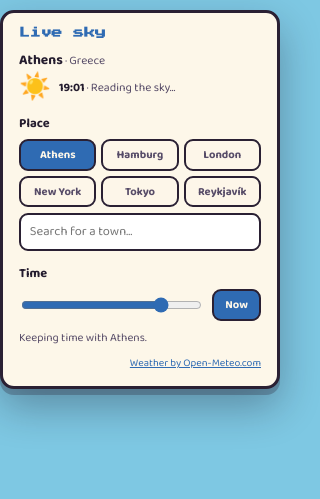
Scenario: moving the sky › finds anywhere else by name
This screenshot has width=320, height=499.
Type "Thessa" into the search field at x=140, y=232, box [19,213,261,251]
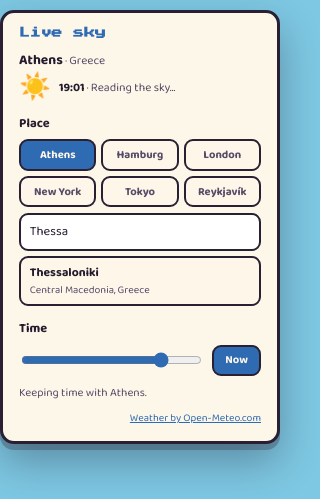
Click the button "Thessaloniki Central Macedonia, Greece" at x=140, y=281, box [19,256,261,306]
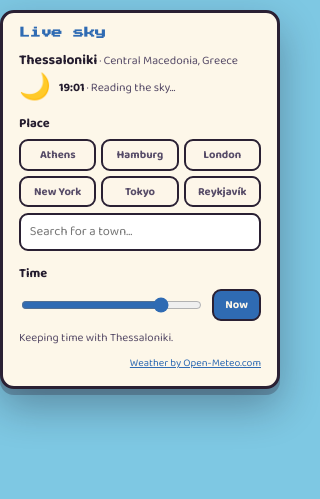
Now the text "Thessaloniki" is shown, box [19,49,97,71]
